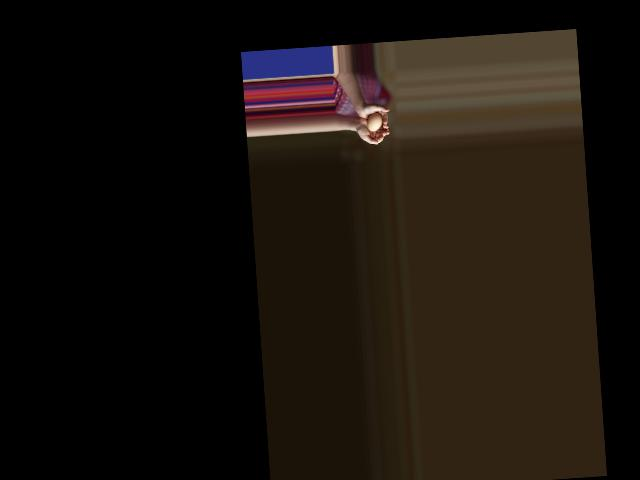egg: (366, 112, 383, 131)
